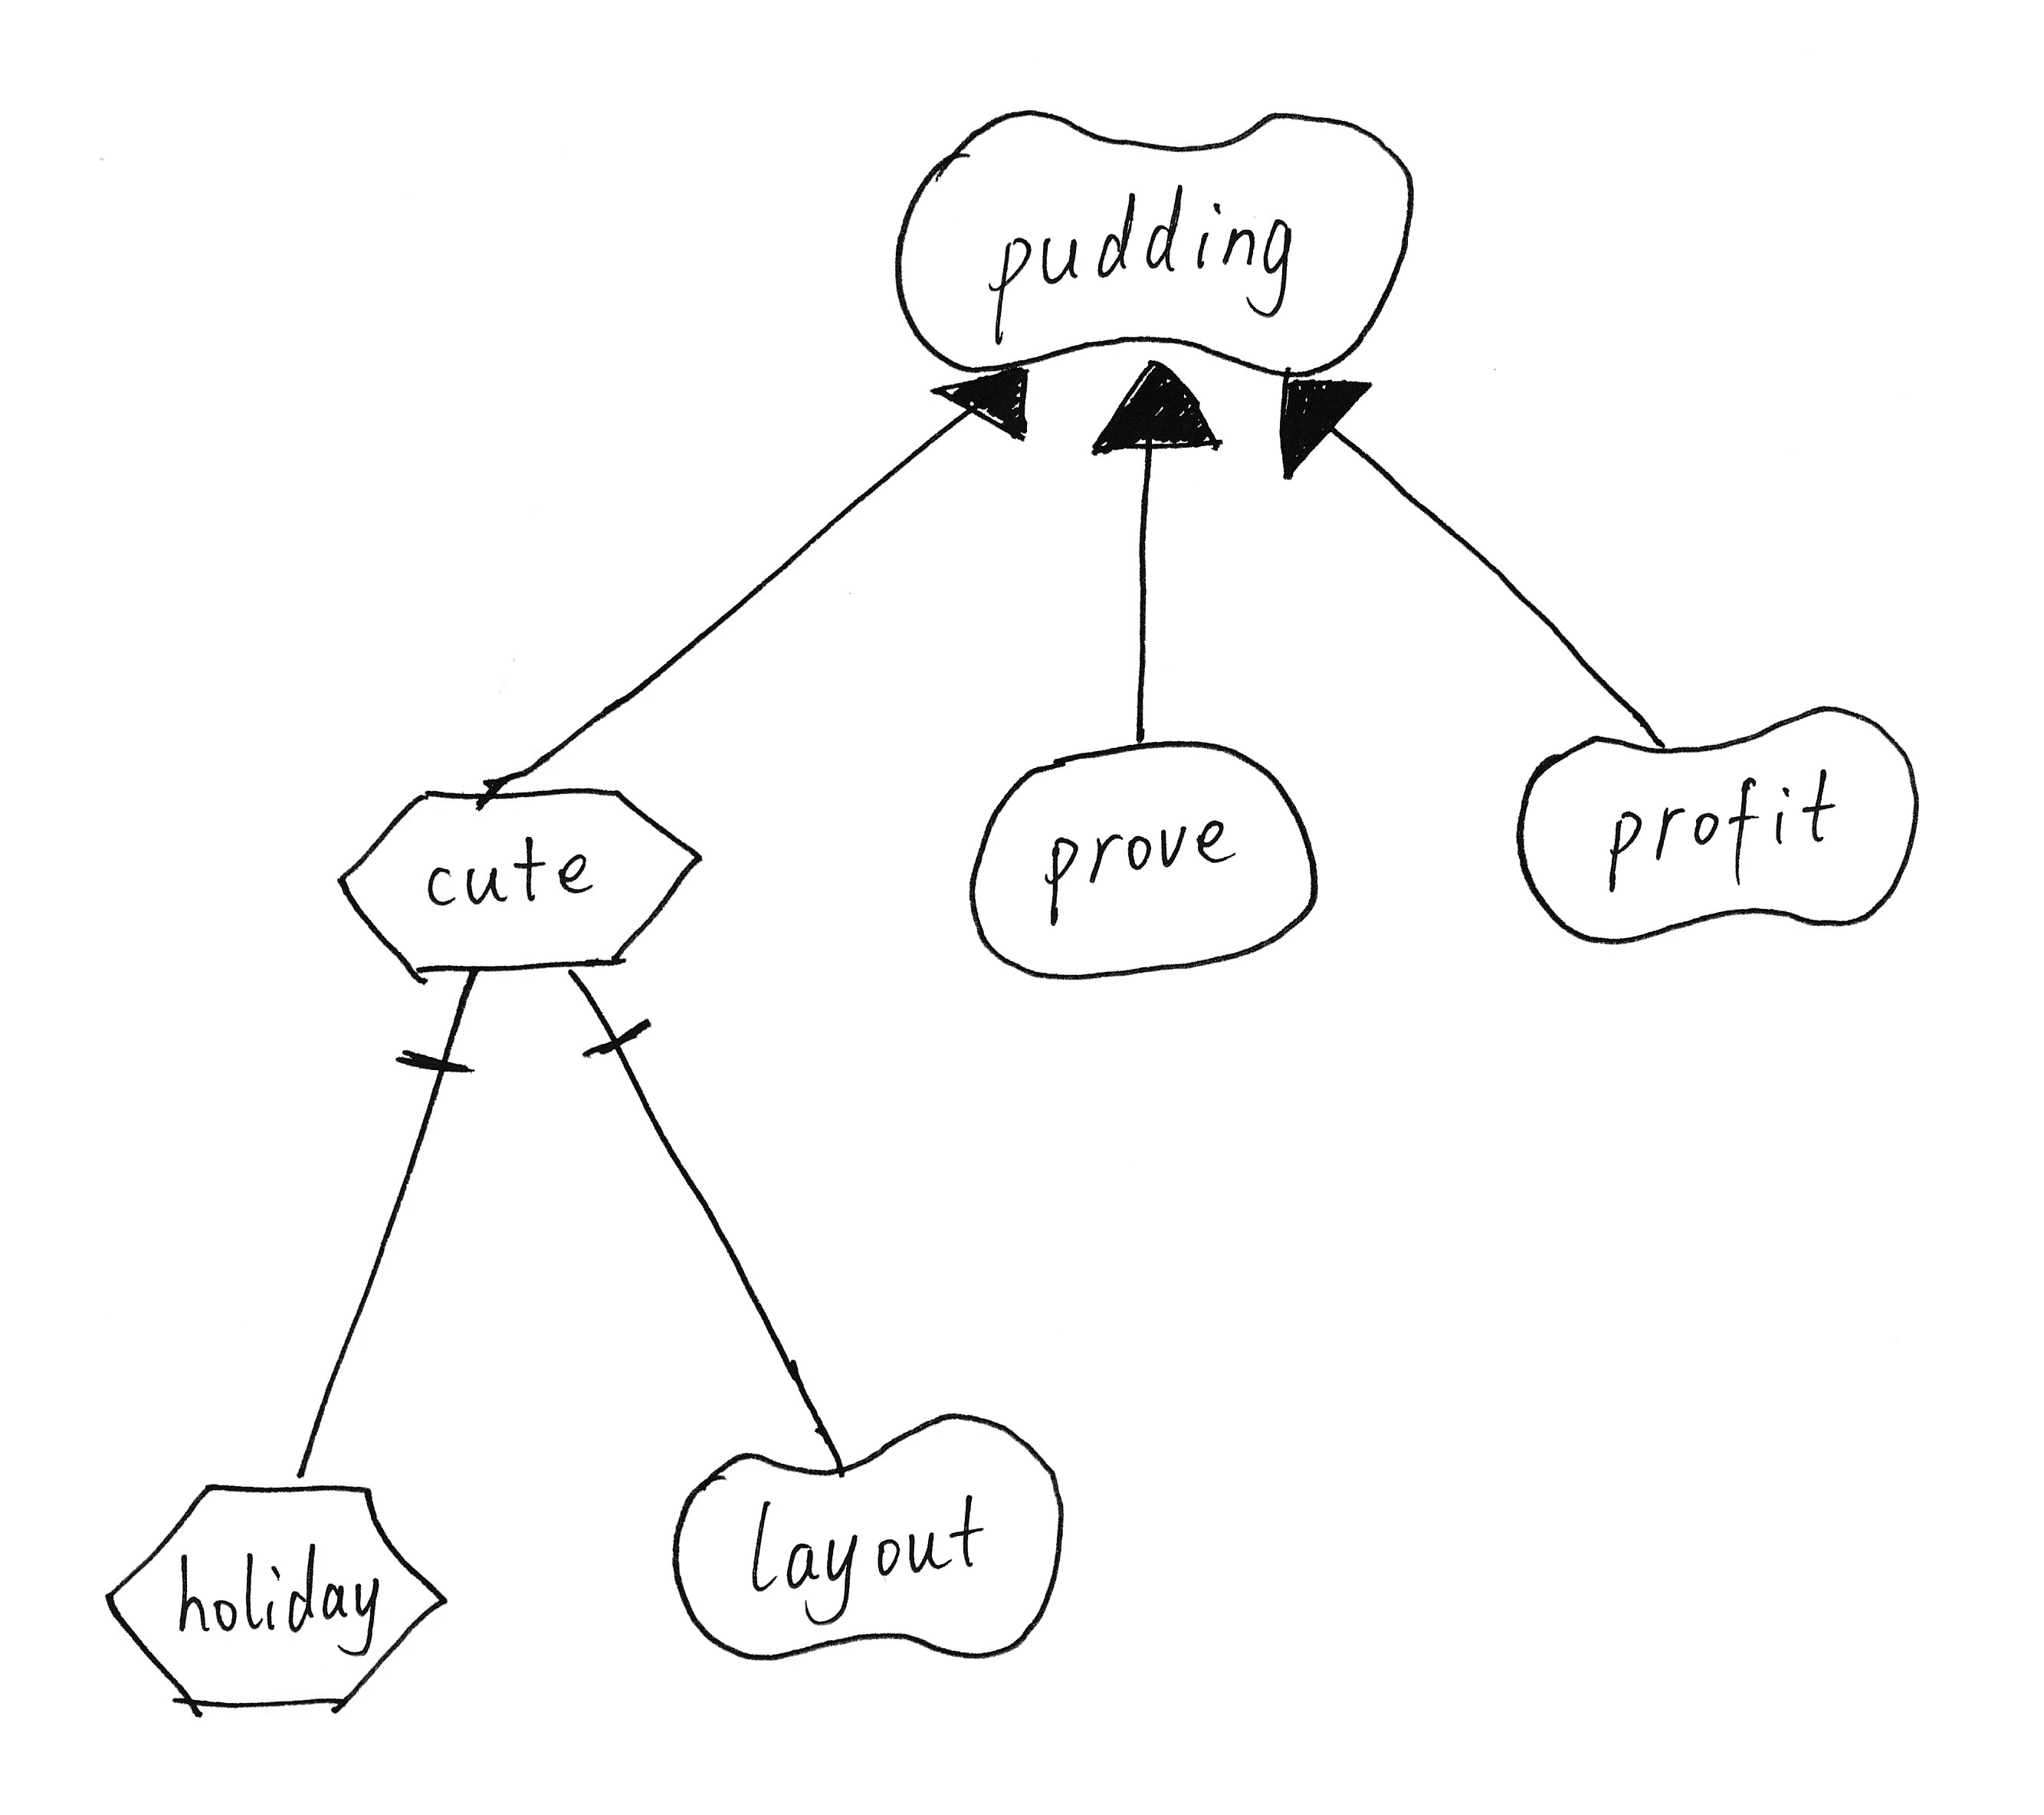and: (387, 957, 504, 1097), (548, 955, 667, 1076)
goal: (946, 724, 1338, 999)
or: (1088, 352, 1221, 475), (1266, 356, 1382, 487), (918, 349, 1049, 454)
quality: (876, 89, 1433, 385), (652, 1389, 1093, 1675), (1496, 683, 1937, 958)
task: (88, 1461, 459, 1731), (319, 767, 730, 993)
